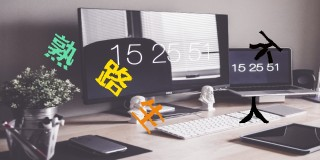不: (248, 30, 281, 64)
人: (238, 95, 270, 125)
熟: (44, 33, 77, 70)
生: (131, 98, 165, 135)
路: (94, 59, 133, 97)
